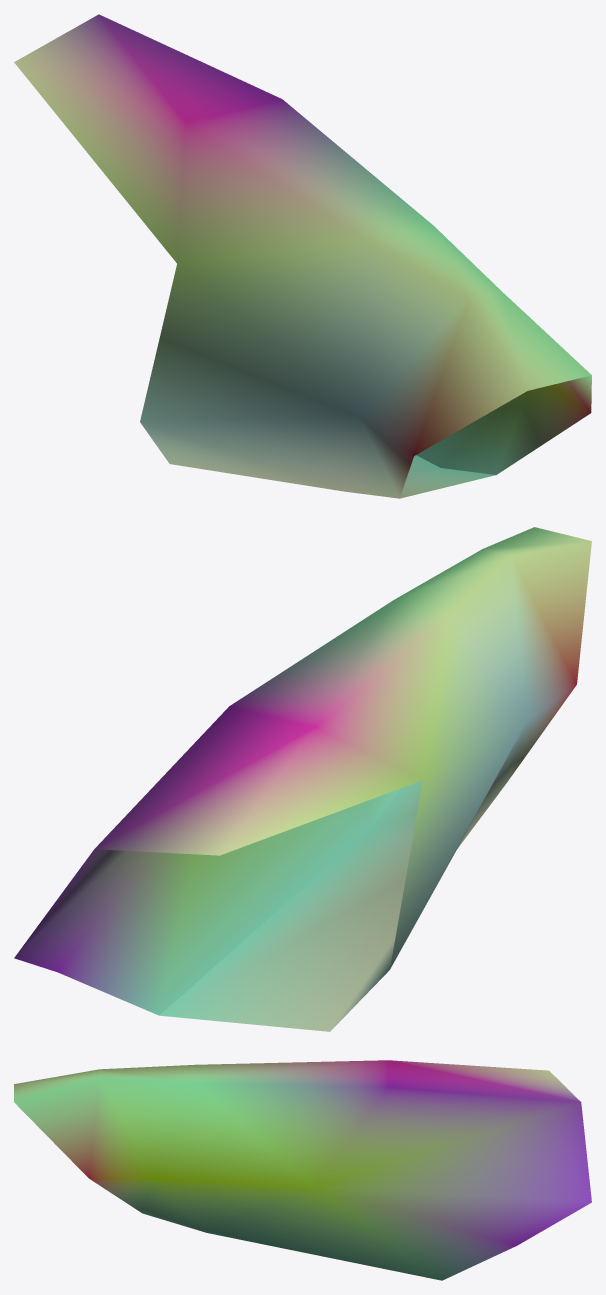
3 views of the same model, one above another, from view 1: azimuth 30°, elevation 25°; view 2: azimuth 150°, elevation 25°; view 3: azimuth 270°, elevation 25° (orthographic). The views are drawn at different scales.
Visible parts, largest first — view 1: part; view 2: part; view 3: part.
Part boxes in pixels (x1=…): part: x1=14, y1=14, x2=591, y2=498; part: x1=14, y1=527, x2=591, y2=1031; part: x1=14, y1=1060, x2=591, y2=1280.
Size of the model in its own units: 15 by 20 by 54.
